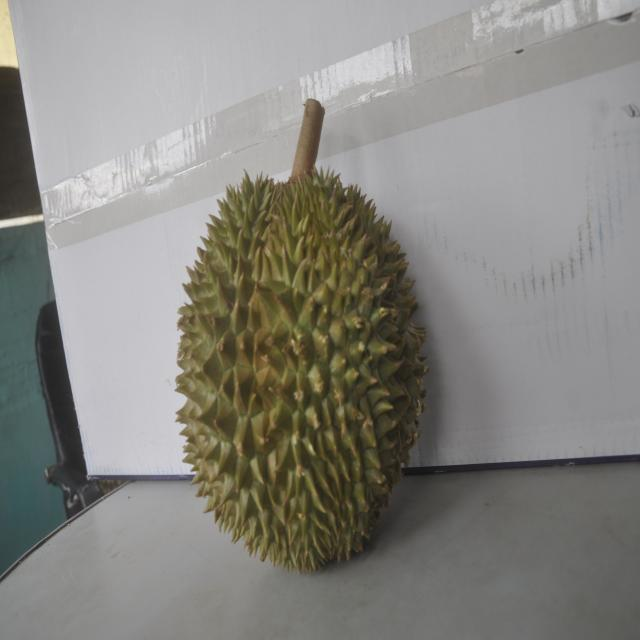mature: (173, 139, 419, 573)
